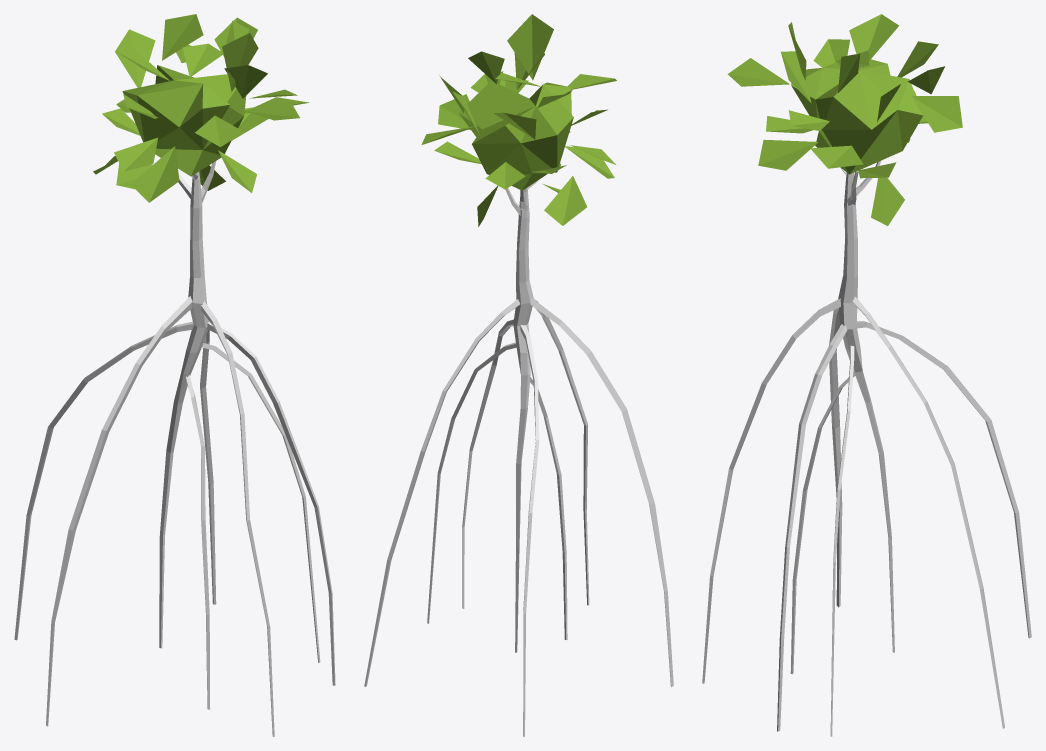
The model's file is SM_Tree_Mangrove_Sapling_A.fbx.
3 renders of one model, left to right at view 1: azimuth 30°, elevation 25°; view 2: azimuth 150°, elevation 25°; view 3: azimuth 270°, elevation 25°, orthographic. The views are drawn at different scales.
Parts seen in each view (by area): view 1: tree-mangrove-sapling-a; view 2: tree-mangrove-sapling-a; view 3: tree-mangrove-sapling-a.
Part boxes in pixels (x1=…): tree-mangrove-sapling-a: x1=14, y1=14, x2=335, y2=736; tree-mangrove-sapling-a: x1=364, y1=14, x2=673, y2=736; tree-mangrove-sapling-a: x1=702, y1=14, x2=1031, y2=736.
Size of the model in its own units: 0.8844 by 2.09 by 0.9341.
